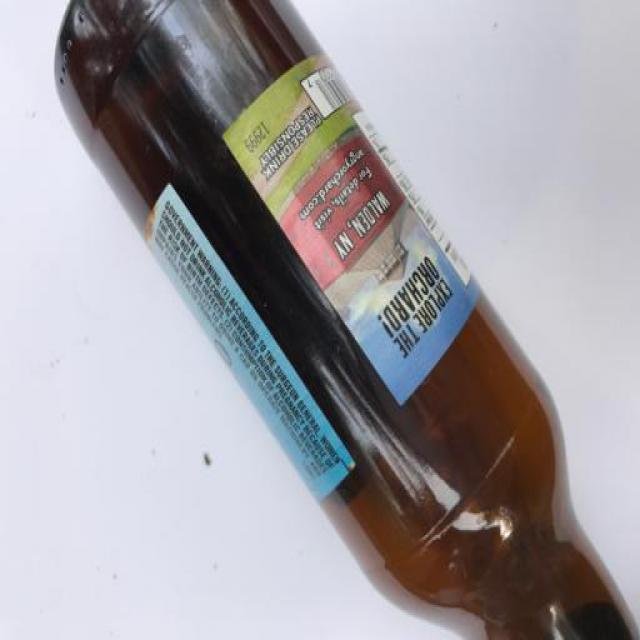Waste: (55, 2, 639, 639)
